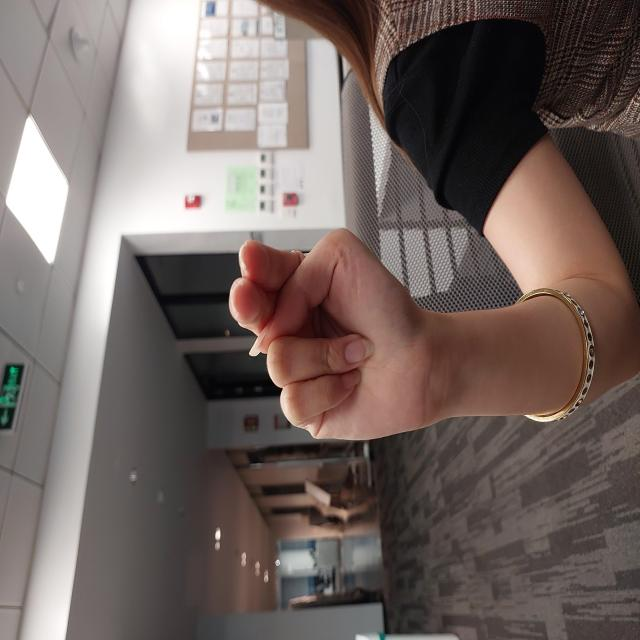N: (196, 227, 415, 443)
